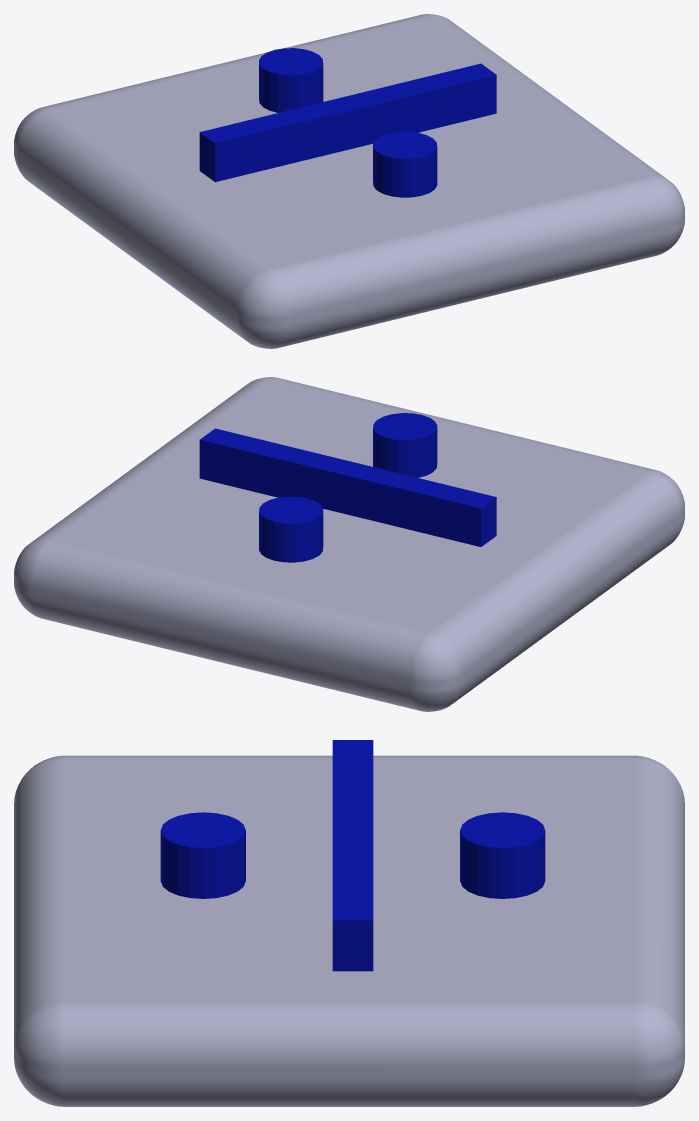
Rendered from buttonDiv.glb.
The picture shows the model from 3 angles, top to bottom: view 1: azimuth 30°, elevation 25°; view 2: azimuth 150°, elevation 25°; view 3: azimuth 270°, elevation 25°; orthographic projection. The views are drawn at different scales.
Visible parts, largest first — view 1: Box, 3D Text - ÷; view 2: Box, 3D Text - ÷; view 3: Box, 3D Text - ÷.
Boxes of the visible parts, x1=… form: Box: x1=14, y1=14, x2=684, y2=348; 3D Text - ÷: x1=199, y1=48, x2=496, y2=197; Box: x1=14, y1=377, x2=684, y2=711; 3D Text - ÷: x1=199, y1=413, x2=496, y2=562; Box: x1=14, y1=755, x2=684, y2=1106; 3D Text - ÷: x1=160, y1=740, x2=545, y2=971.
Size of the model in its own units: 0.1 by 0.0249 by 0.1.
